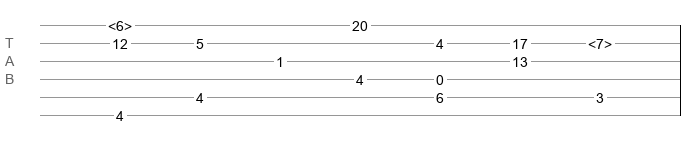0: (436, 72, 444, 82)
1: (276, 54, 284, 64)
12: (112, 36, 128, 46)
13: (512, 54, 528, 64)
17: (512, 36, 528, 46)
20: (352, 18, 368, 28)
3: (596, 90, 604, 100)
4: (116, 108, 124, 118), (196, 90, 204, 100), (356, 72, 364, 82), (436, 36, 444, 46)
5: (196, 36, 204, 46)
6: (436, 90, 444, 100)
harmonic: (108, 18, 132, 28), (588, 36, 612, 46)
